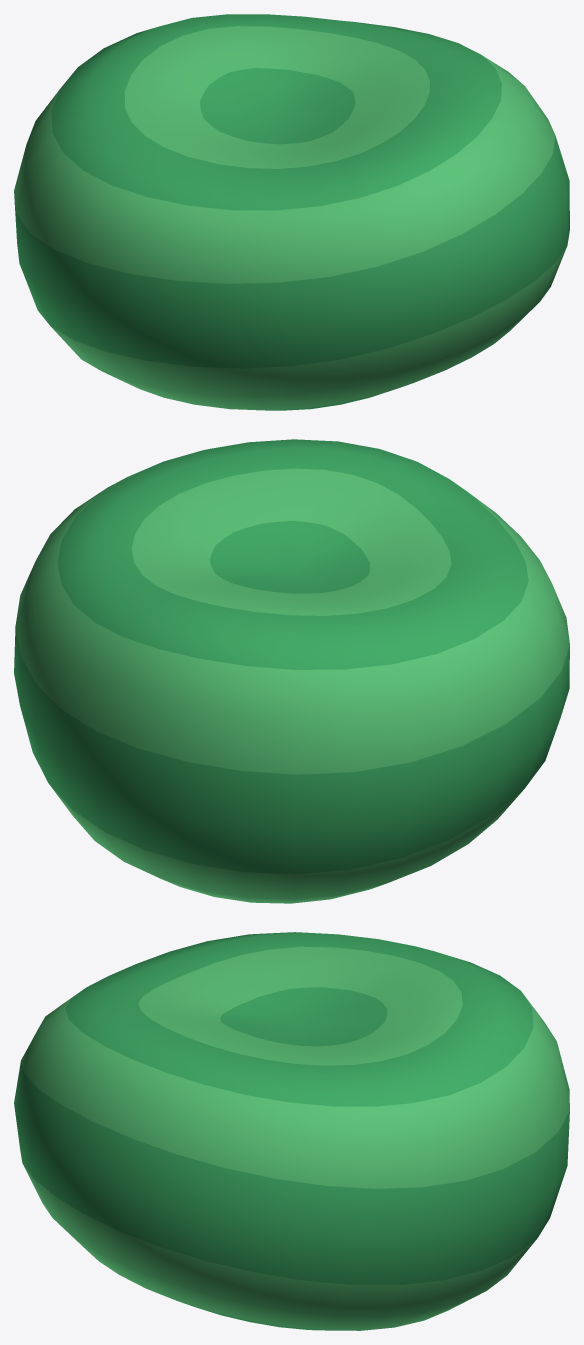
Rendered from Tree_Top_C_01.fbx.
3 views of the same model, one above another, from view 1: azimuth 30°, elevation 25°; view 2: azimuth 150°, elevation 25°; view 3: azimuth 270°, elevation 25° (orthographic). The views are drawn at different scales.
Visible parts, largest first — view 1: Tree_Top_C_01_LOD0; view 2: Tree_Top_C_01_LOD0; view 3: Tree_Top_C_01_LOD0.
Part boxes in pixels (<box>): Tree_Top_C_01_LOD0: <box>14,14,569,410</box>; Tree_Top_C_01_LOD0: <box>14,439,569,903</box>; Tree_Top_C_01_LOD0: <box>14,932,569,1330</box>.
Size of what is drawn, in the model's own units: 578 by 342 by 585.
